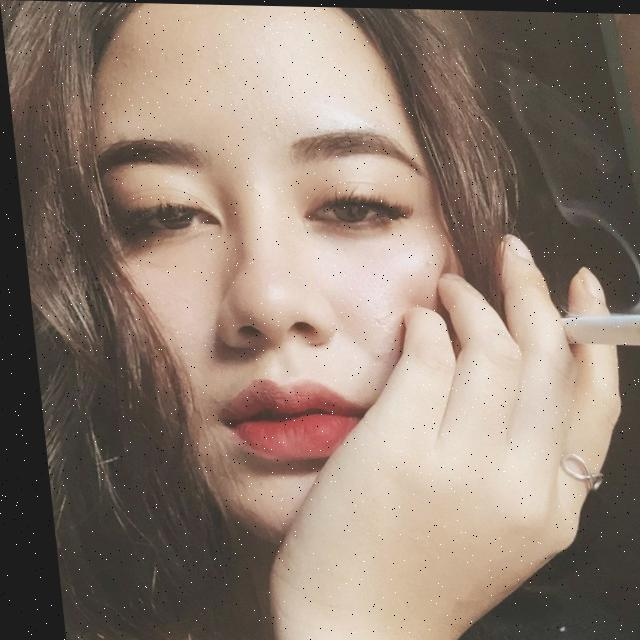cigarette: (553, 310, 640, 345)
